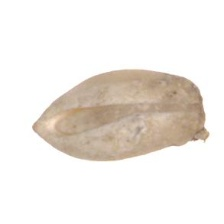L1: (191, 82, 209, 142), (30, 106, 48, 147)
L2: (31, 69, 210, 162)
